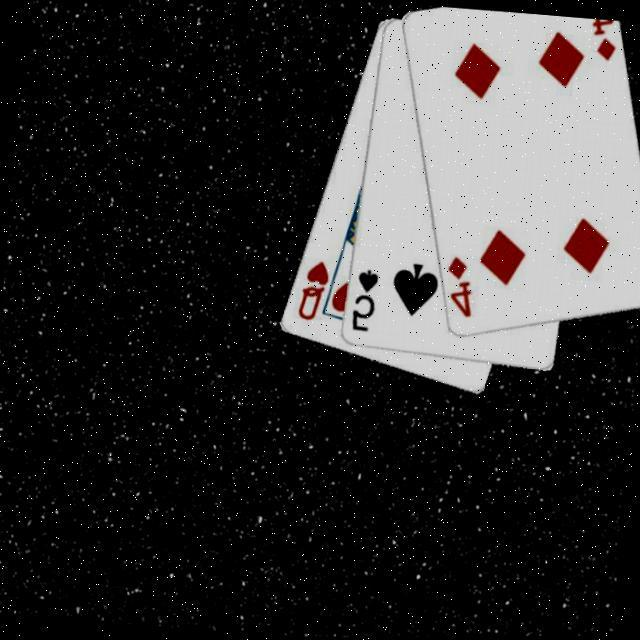4D: (437, 252, 476, 322), (582, 18, 618, 66)
5S: (344, 265, 378, 335)
QH: (290, 255, 331, 324)
